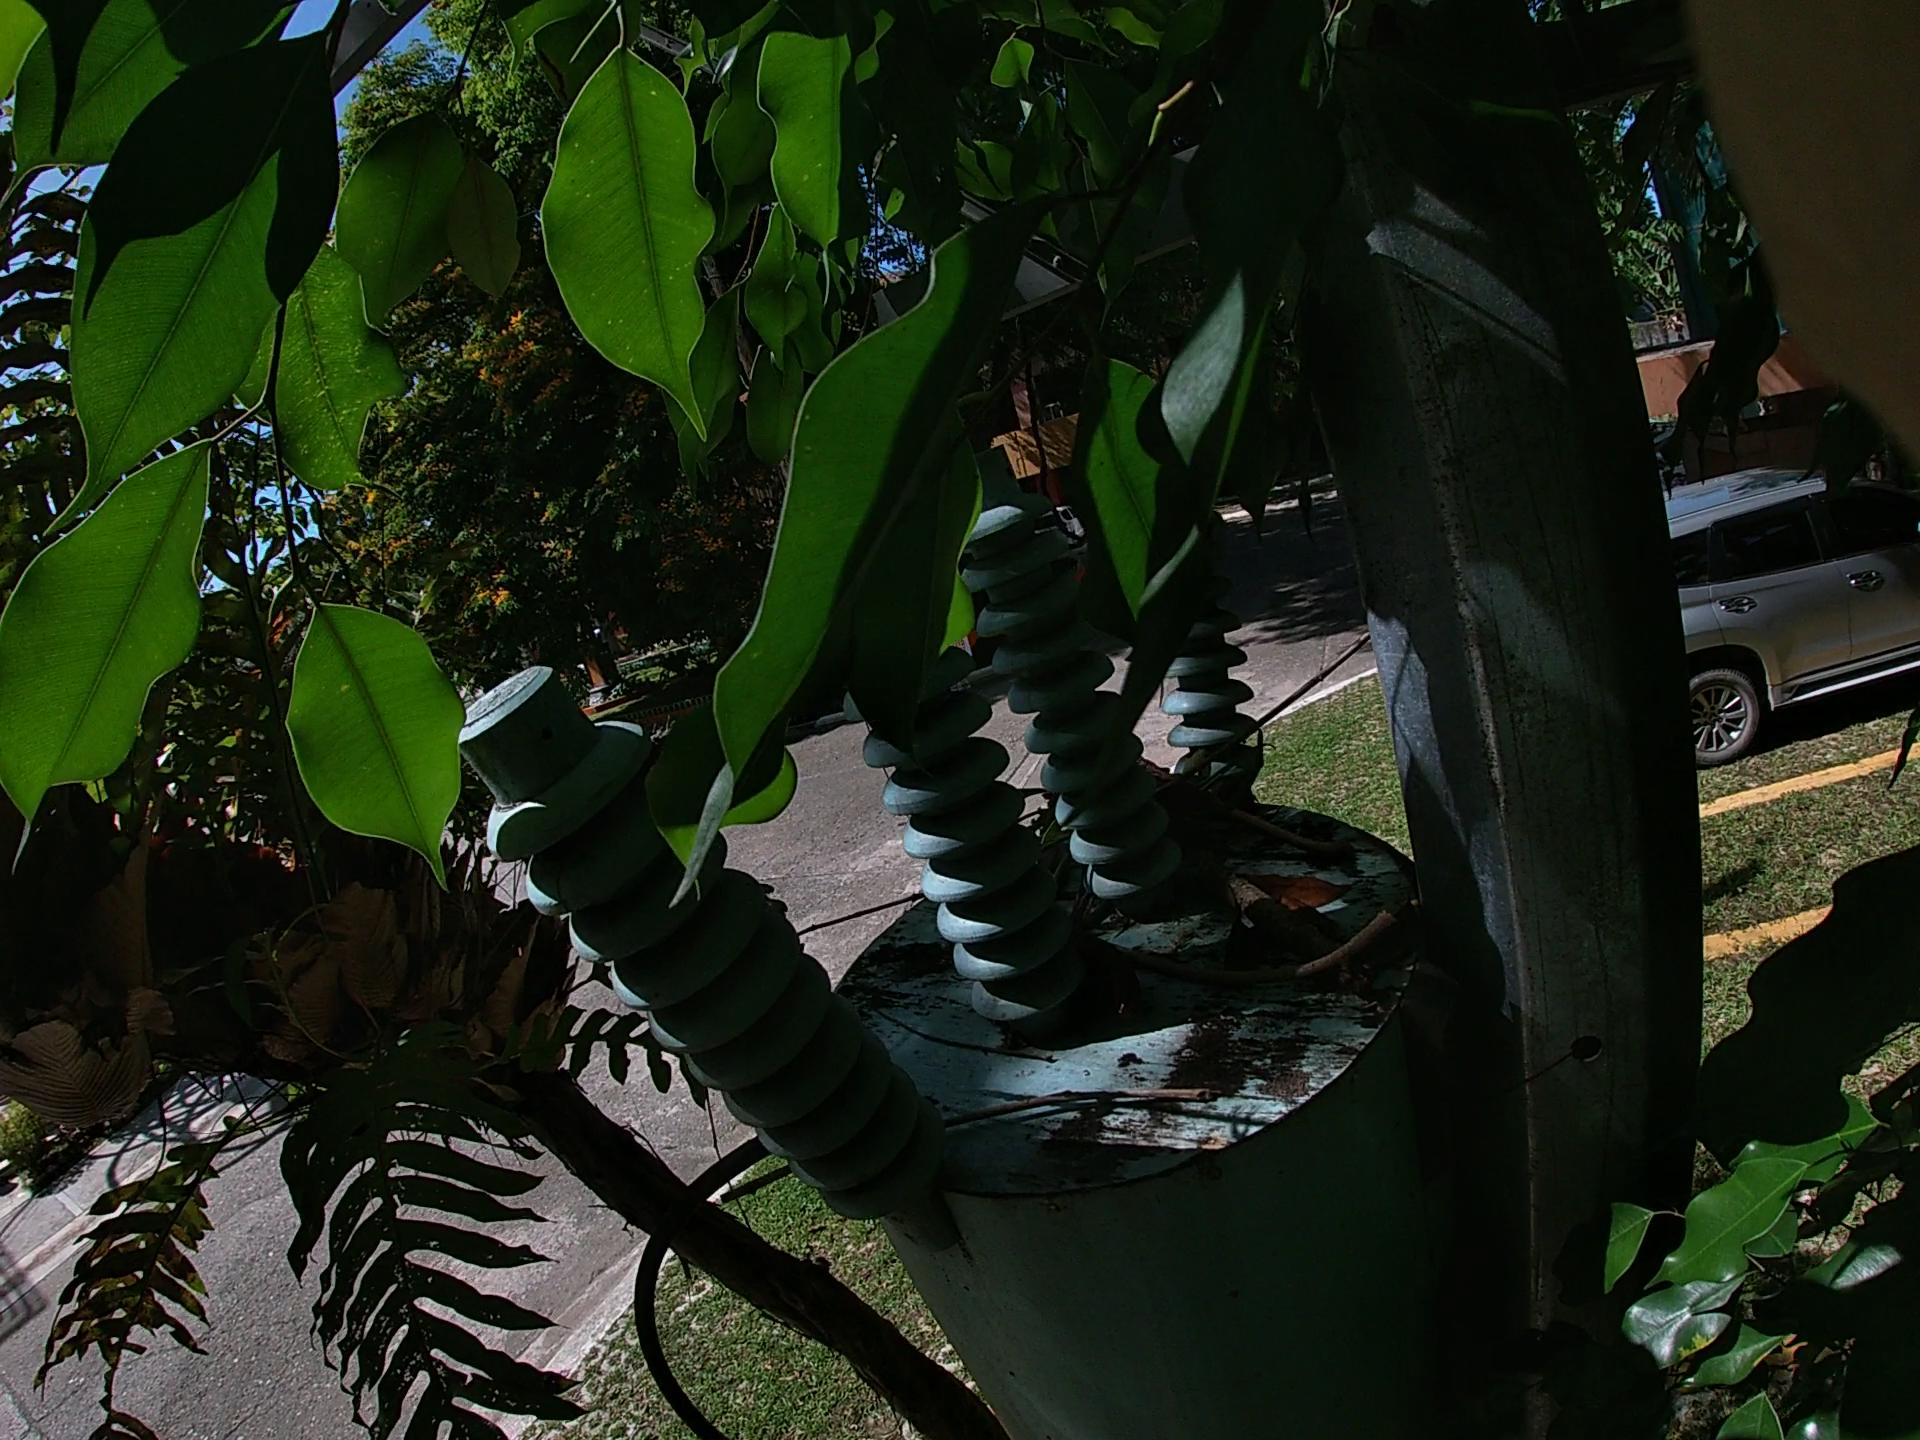leaf: (1271, 852, 1321, 911)
tree branch: (717, 290, 1379, 1299), (664, 1006, 1385, 1234), (1219, 833, 1421, 1160), (1063, 930, 1432, 1035)
